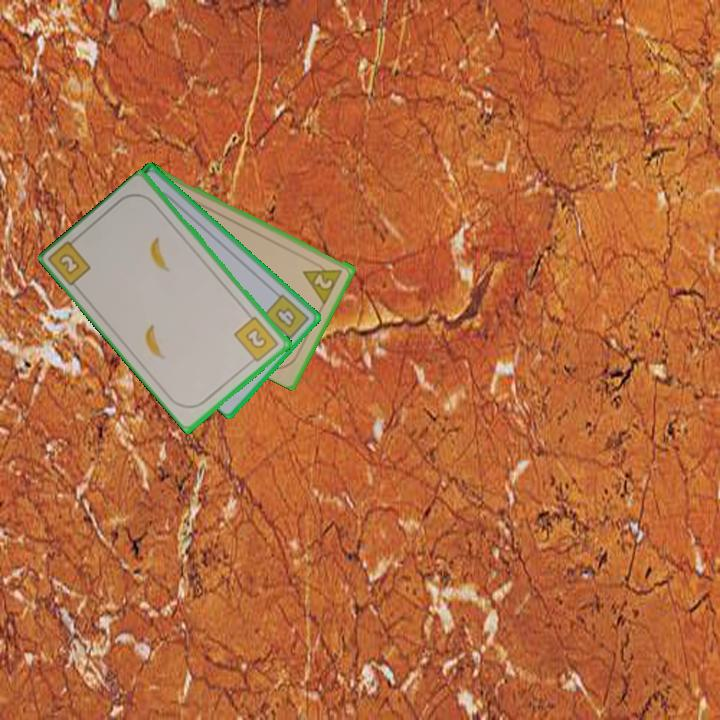2b: (231, 313, 282, 367), (47, 233, 94, 289)
2p: (299, 257, 346, 306)
4b: (260, 290, 312, 346)
